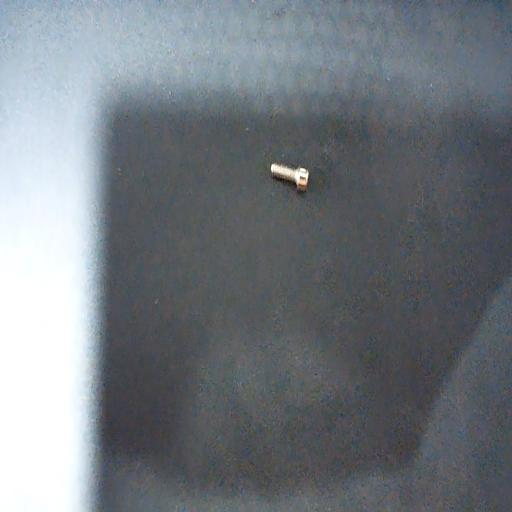screw: (270, 162, 308, 190)
